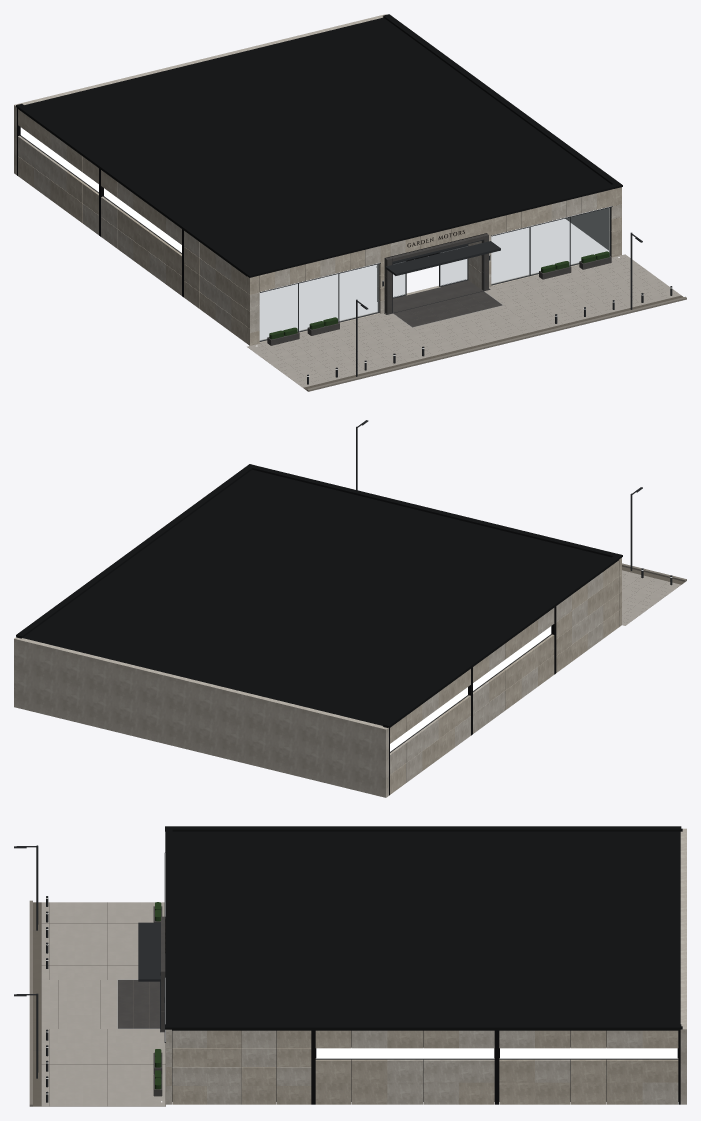
The model's file is room_facade.glb.
3 views of the same model, one above another, from view 1: azimuth 30°, elevation 25°; view 2: azimuth 150°, elevation 25°; view 3: azimuth 270°, elevation 25° (orthographic). The views are drawn at different scales.
Parts seen in each view (by area): view 1: MTG_Roof, MTG_Walls, MTG_Floor, MTG_Glass_Vit-1, MTG_Glass_Vit1, MTG_FacCoping, MTG_SideCoping-1, MTG_SideCoping1, MTG_FacBack, MTG_Curb, MTG_Reveals, MTG_Canopy (+3 smaller); view 2: MTG_Roof, MTG_FacBack, MTG_Walls, MTG_FacCoping, MTG_Floor, MTG_SideCoping-1, MTG_SideCoping1, MTG_SideBand-1_0, MTG_SideBand-1_1; view 3: MTG_Roof, MTG_Walls, MTG_Floor, MTG_SideCoping1, MTG_SideCoping-1, MTG_Reveals, MTG_SideBand1_0, MTG_SideBand1_1, MTG_FacBack, MTG_FacCoping, MTG_Canopy, MTG_Curb.
Part boxes in pixels (bbox=[...]): MTG_Roof: bbox=[17, 17, 611, 276]; MTG_Walls: bbox=[18, 109, 621, 345]; MTG_Floor: bbox=[247, 254, 683, 390]; MTG_Glass_Vit-1: bbox=[260, 264, 378, 340]; MTG_Glass_Vit1: bbox=[491, 208, 609, 284]; MTG_FacCoping: bbox=[246, 182, 622, 276]; MTG_SideCoping-1: bbox=[16, 104, 255, 277]; MTG_SideCoping1: bbox=[383, 14, 622, 188]; MTG_FacBack: bbox=[14, 14, 386, 174]; MTG_Curb: bbox=[306, 296, 686, 391]; MTG_Reveals: bbox=[17, 17, 661, 373]; MTG_Canopy: bbox=[385, 241, 500, 275]; MTG_Roof: bbox=[23, 469, 618, 728]; MTG_FacBack: bbox=[14, 637, 388, 797]; MTG_Walls: bbox=[390, 558, 621, 794]; MTG_FacCoping: bbox=[246, 464, 622, 557]; MTG_Floor: bbox=[622, 566, 684, 625]; MTG_SideCoping-1: bbox=[383, 555, 622, 727]; MTG_SideCoping1: bbox=[16, 466, 252, 637]; MTG_SideBand-1_0: bbox=[473, 626, 551, 690]; MTG_SideBand-1_1: bbox=[390, 687, 467, 751]; MTG_Roof: bbox=[172, 831, 680, 1030]; MTG_Walls: bbox=[161, 916, 678, 1104]; MTG_Floor: bbox=[33, 902, 165, 1106]; MTG_SideCoping1: bbox=[165, 1024, 681, 1029]; MTG_SideCoping-1: bbox=[165, 826, 681, 831]; MTG_Reveals: bbox=[33, 828, 682, 1106]; MTG_SideBand1_0: bbox=[316, 1048, 494, 1058]; MTG_SideBand1_1: bbox=[500, 1048, 677, 1058]; MTG_FacBack: bbox=[680, 828, 686, 1104]; MTG_FacCoping: bbox=[165, 826, 172, 1027]; MTG_Canopy: bbox=[138, 922, 160, 981]; MTG_Curb: bbox=[29, 900, 32, 1106].
Bounding box in the file's own units: 34.2 × 6.61 × 47.65.
22 materials, 10 textured.
